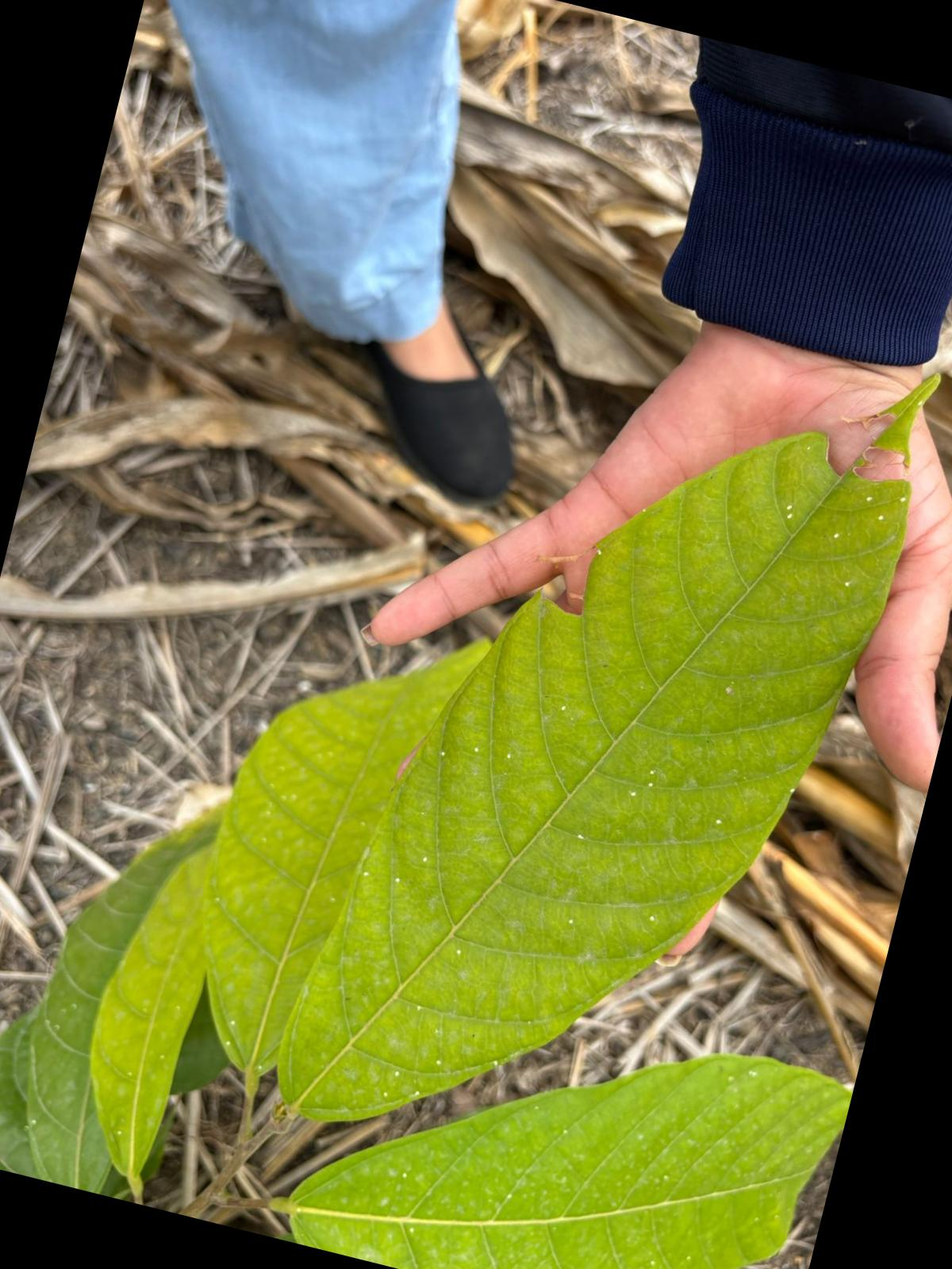Nitrogeno: (279, 433, 910, 1119), (203, 645, 481, 1085), (281, 1055, 851, 1269)
